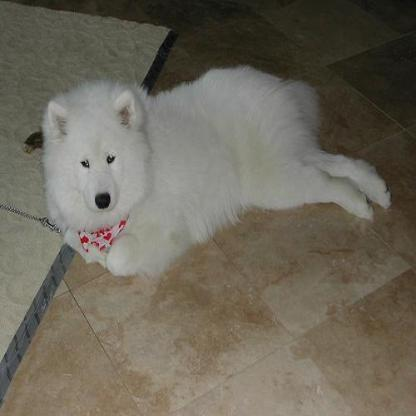Samoyed: (41, 64, 391, 278)
